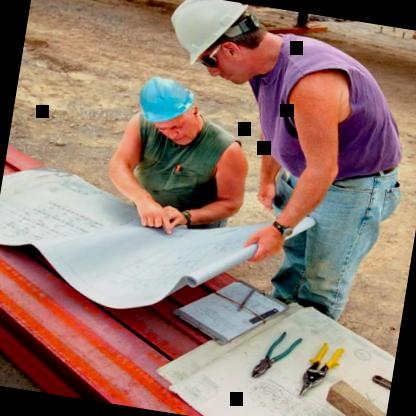helmet: (150, 0, 284, 93), (124, 70, 212, 150)
